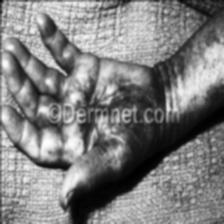Unclassified: (63, 70, 214, 103), (66, 128, 152, 156), (190, 35, 224, 67)
